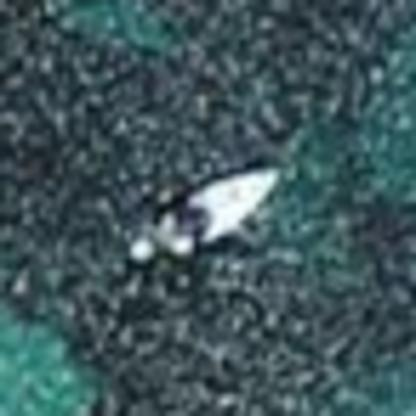ship: (122, 156, 292, 271)
